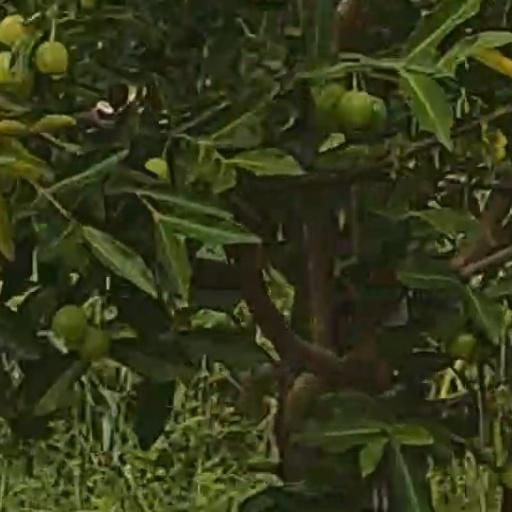acerola_verde: (338, 94, 376, 137), (54, 306, 89, 343), (37, 43, 68, 75)
